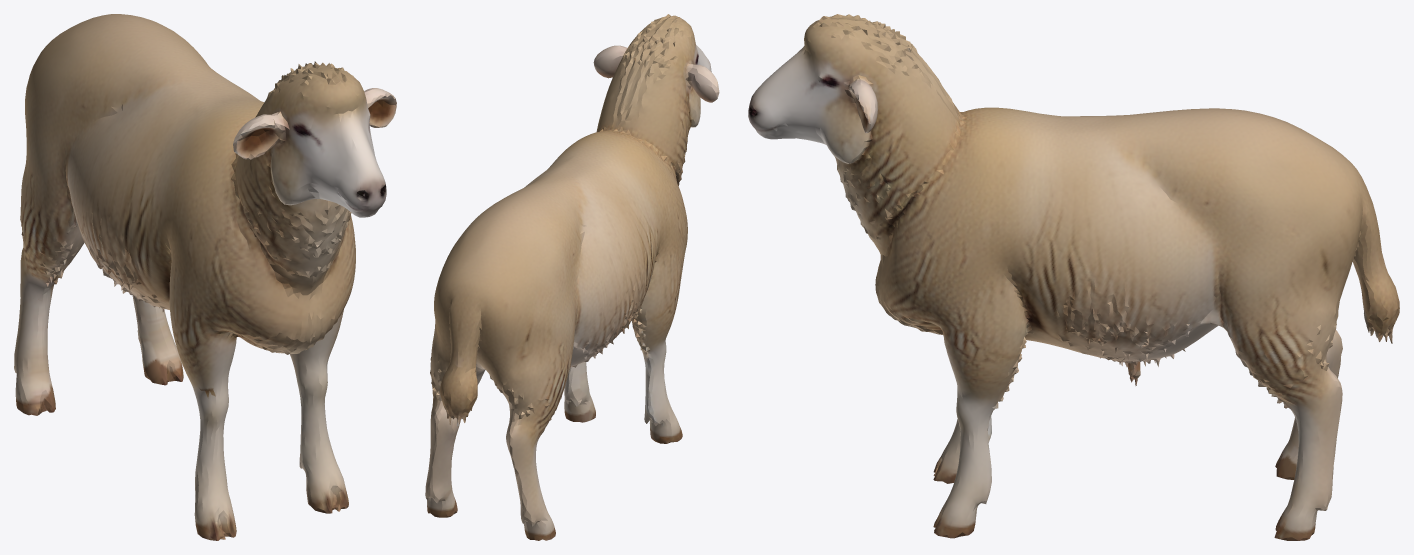
The model's file is sheep.glb.
3 renders of one model, left to right at view 1: azimuth 30°, elevation 25°; view 2: azimuth 150°, elevation 25°; view 3: azimuth 270°, elevation 25°, orthographic. The views are drawn at different scales.
Visible parts, largest first — view 1: model; view 2: model; view 3: model.
Boxes of the visible parts, x1,y1,x2,y2 form: model: [14, 14, 396, 540]; model: [425, 14, 719, 540]; model: [748, 14, 1399, 540].
Bounding box in the file's own units: 0.6196 × 1.56 × 1.9.
Materials: 1 (1 with a texture image).
